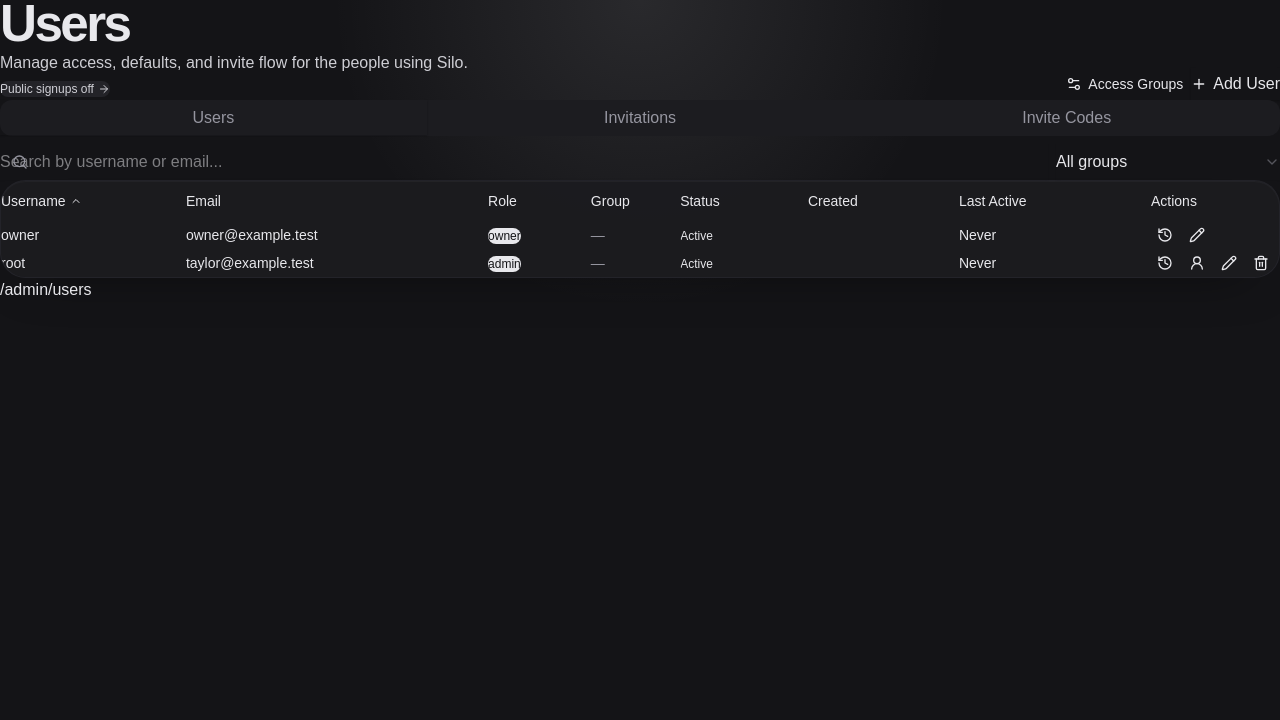
it: AdminUsers user dialog policy hints › previews the default group for an admin demoted from the list
Step 1. Click the button named "Edit root" → [1229, 263], box [1215,249,1243,277]
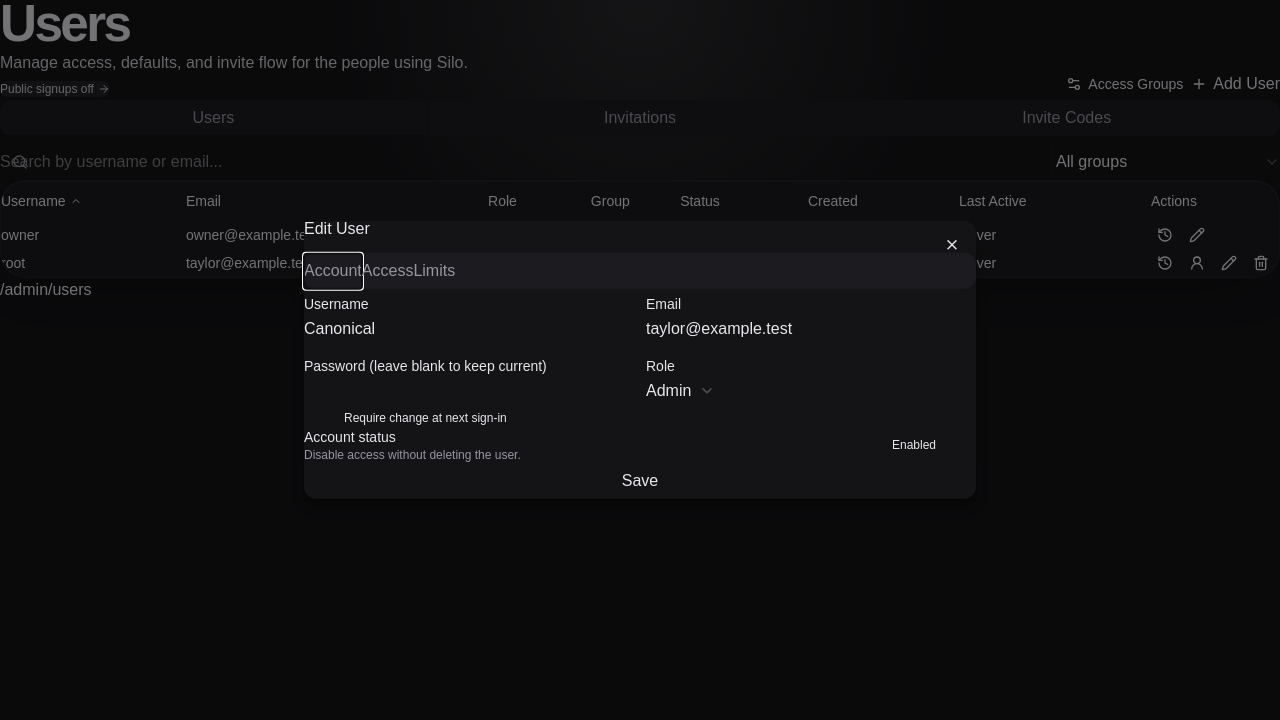
Step 2. Click the tab "Limits" → [434, 271], box [413,253,455,288]
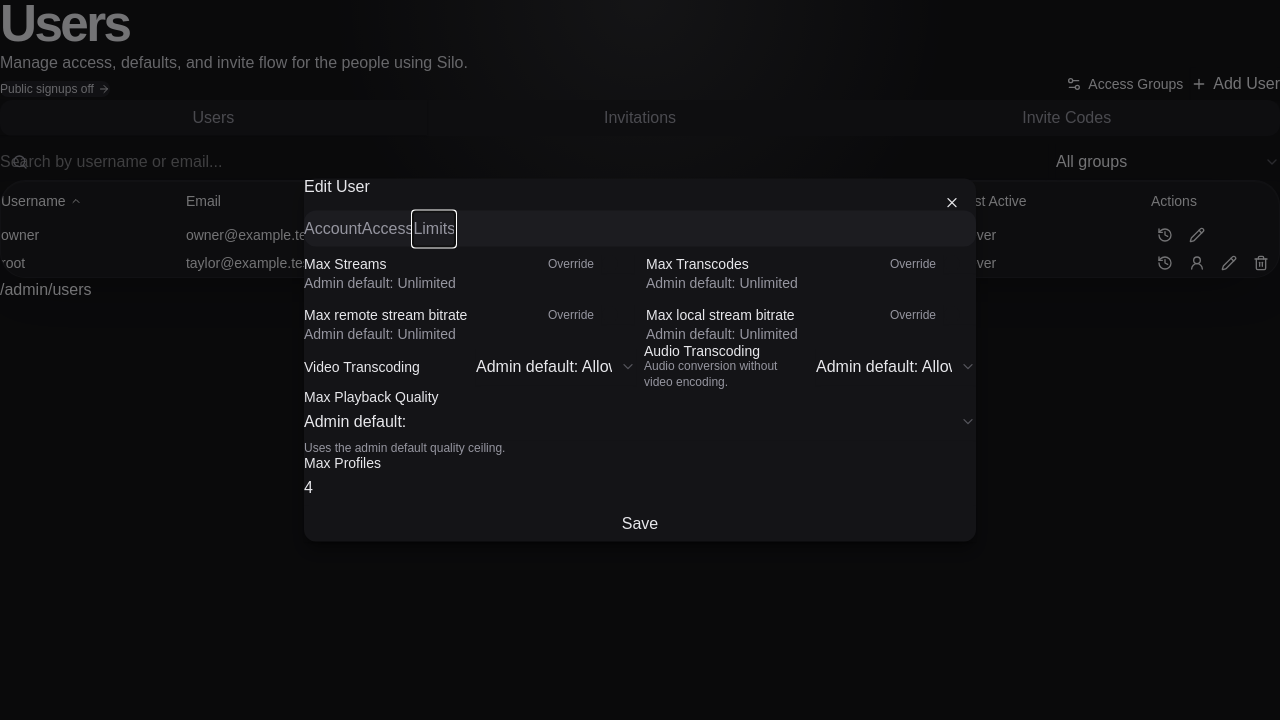
Now the text "Admin default: Unlimited" is shown 4 times, box [304,275,456,291]; [646,275,798,291]; [304,325,456,341]; [646,325,798,341]
Step 3. Click the tab "Account" → [333, 229], box [304,211,362,246]
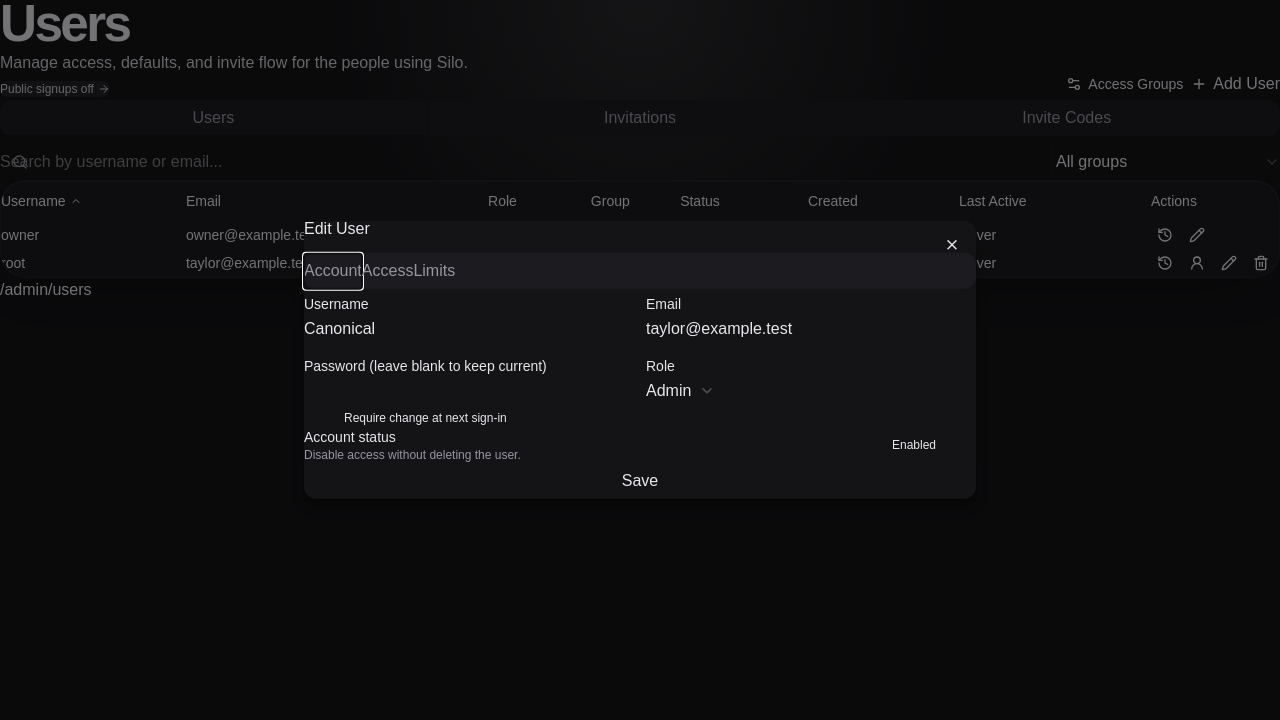
Step 4. Click the dropdown named "Role" → [681, 391], box [646,373,715,409]
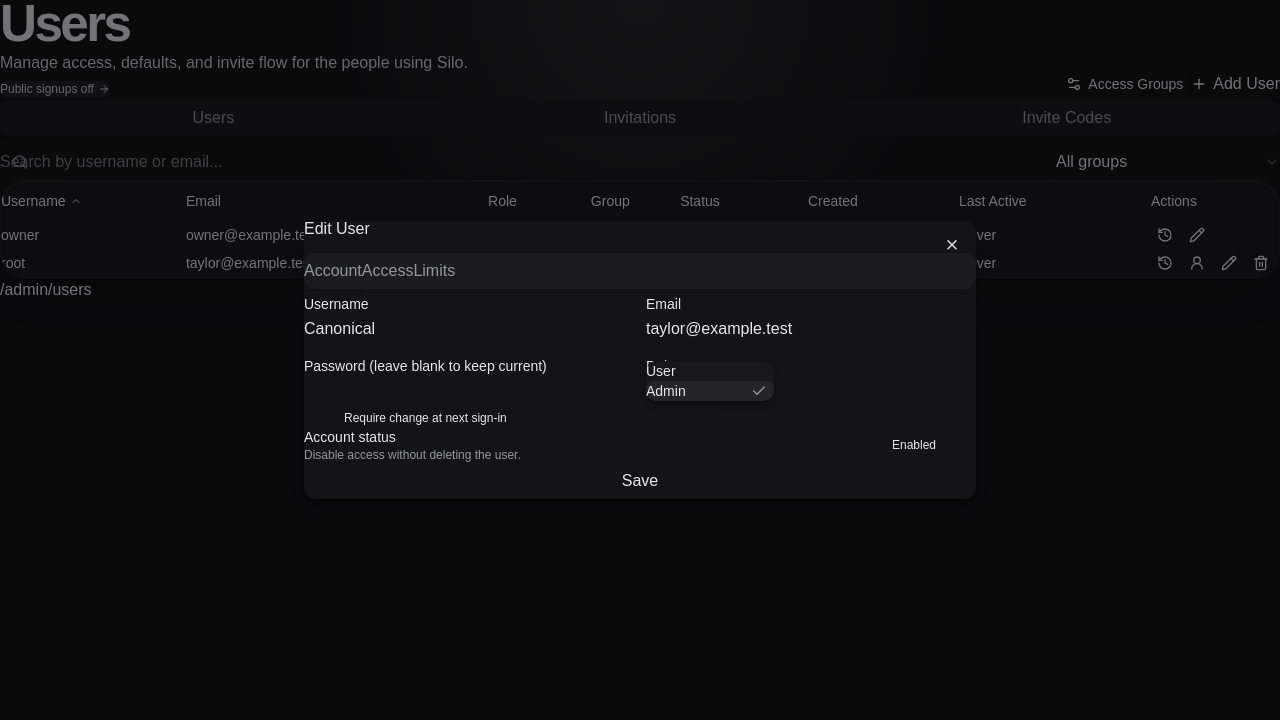
Step 5. Click the option "User" → [661, 371], box [646,363,676,379]
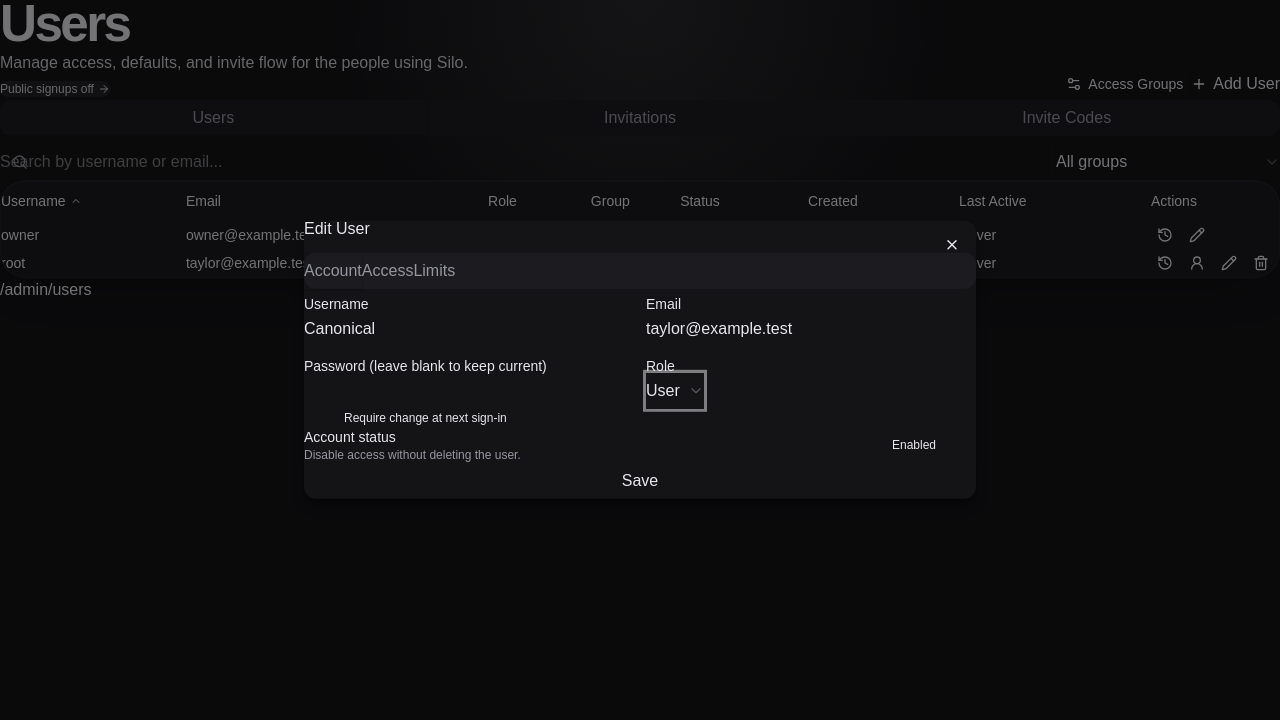
Step 6. Click the tab "Limits" → [434, 271], box [413,253,455,288]
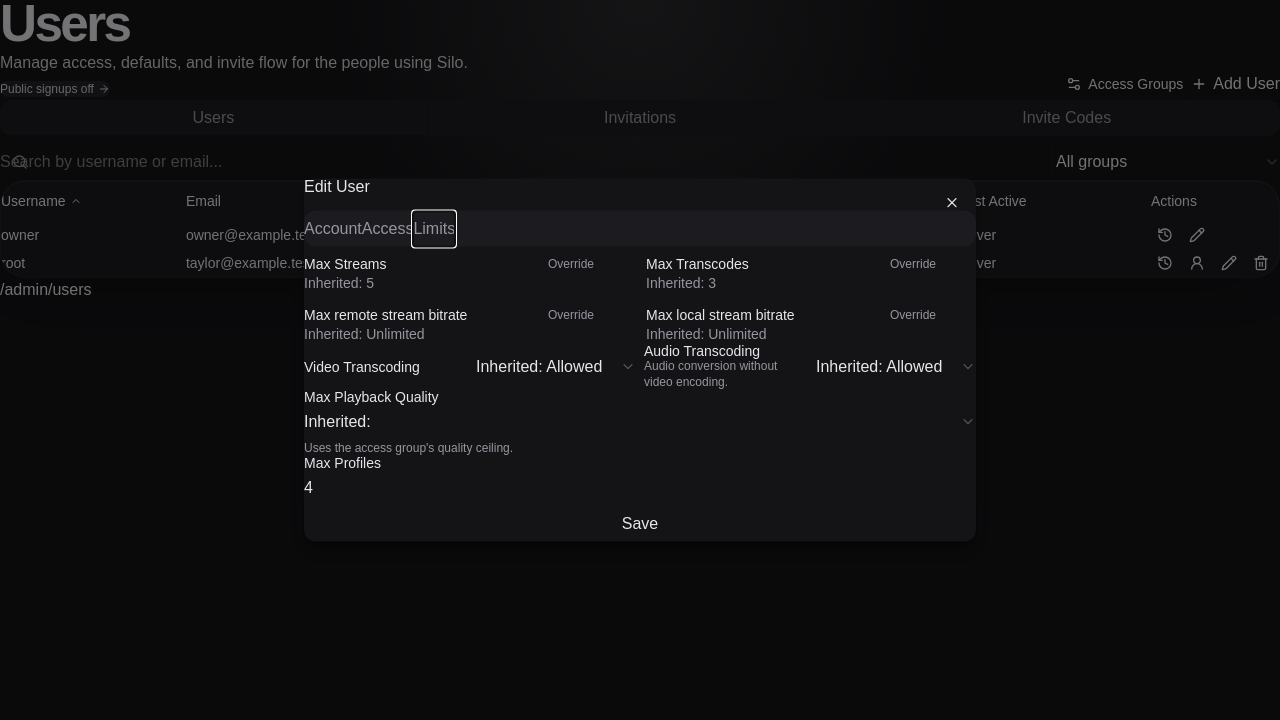
Now the text "Inherited: 5" is shown, box [304,275,374,291]
